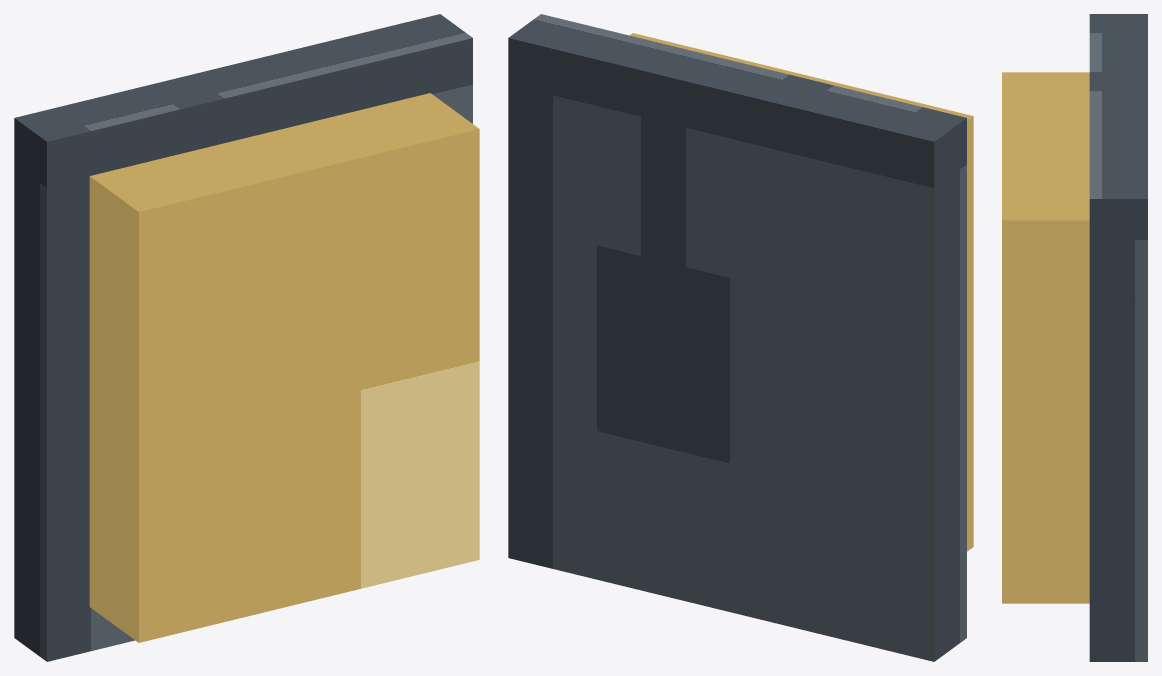
File: wall_light.glb
3 views of the same model, side by side, from view 1: azimuth 30°, elevation 25°; view 2: azimuth 150°, elevation 25°; view 3: azimuth 270°, elevation 25° (orthographic). The views are drawn at different scales.
Visible parts, largest first — view 1: wall_light mesh; view 2: wall_light mesh; view 3: wall_light mesh.
Part boxes in pixels (x1=…): wall_light mesh: x1=14, y1=14, x2=479, y2=661; wall_light mesh: x1=508, y1=14, x2=973, y2=661; wall_light mesh: x1=1002, y1=14, x2=1147, y2=661.
Bounding box in the file's own units: 0.3 × 0.35 × 0.1.
Materials: 2 (2 with a texture image).
